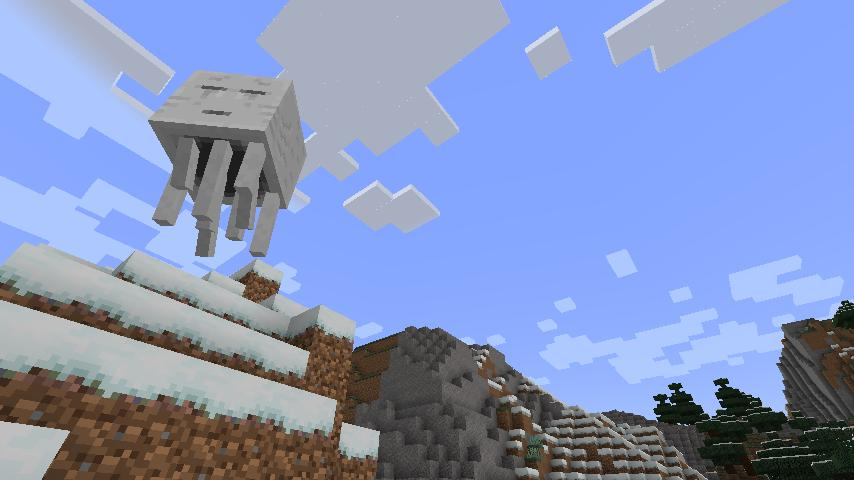ghast: (145, 66, 309, 262)
